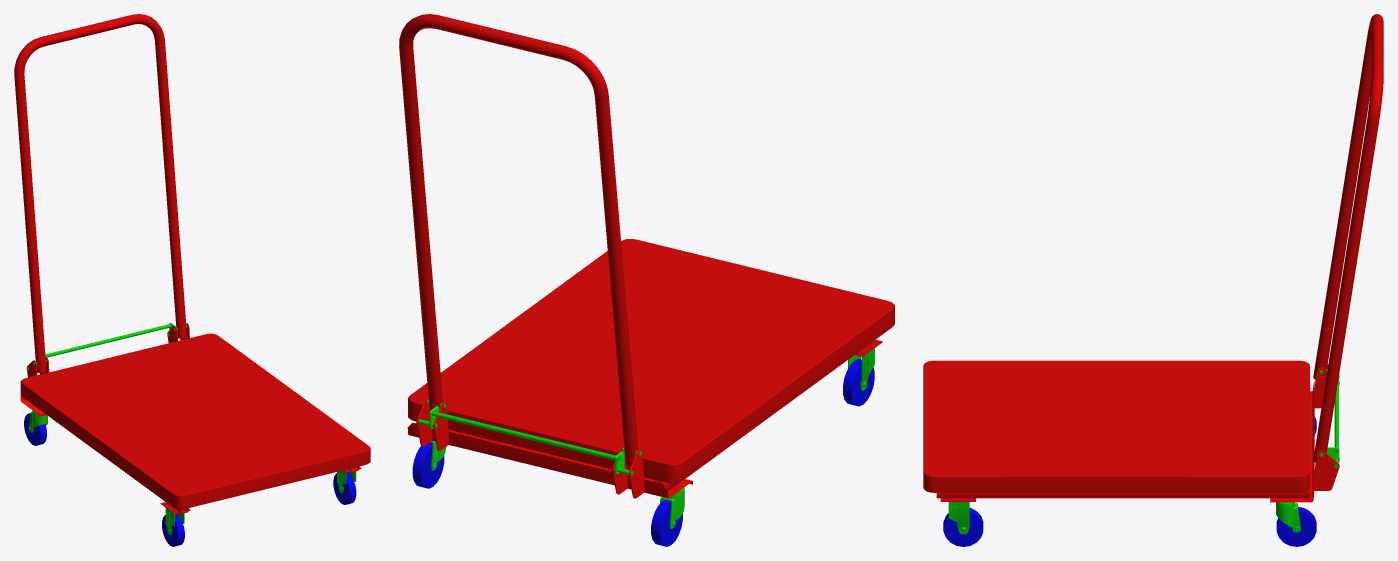
File: Cart.fbx
3 renders of one model, left to right at view 1: azimuth 30°, elevation 25°; view 2: azimuth 150°, elevation 25°; view 3: azimuth 270°, elevation 25°, orthographic. The views are drawn at different scales.
Parts seen in each view (by area): view 1: Cart; view 2: Cart; view 3: Cart.
Boxes of the visible parts, x1,y1,x2,y2 form: Cart: [14, 14, 370, 546]; Cart: [399, 14, 894, 546]; Cart: [923, 14, 1383, 546].
Size of the model in its own units: 0.5605 by 1.01 by 0.9405.
